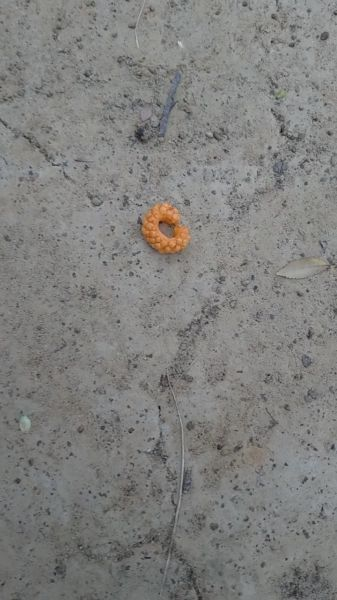eggs: (143, 197, 189, 263)
